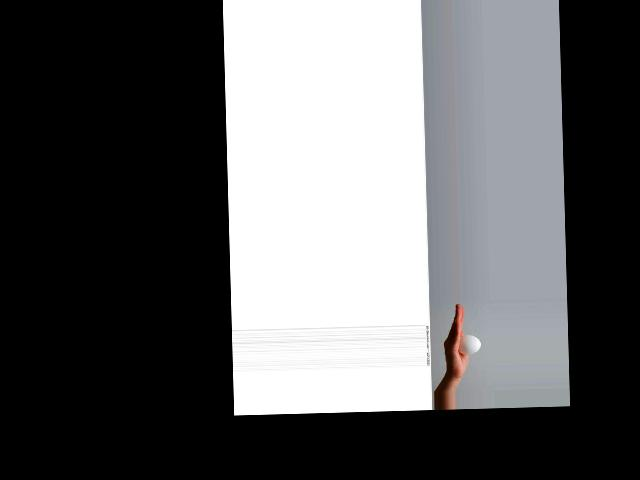egg: (457, 334, 480, 354)
